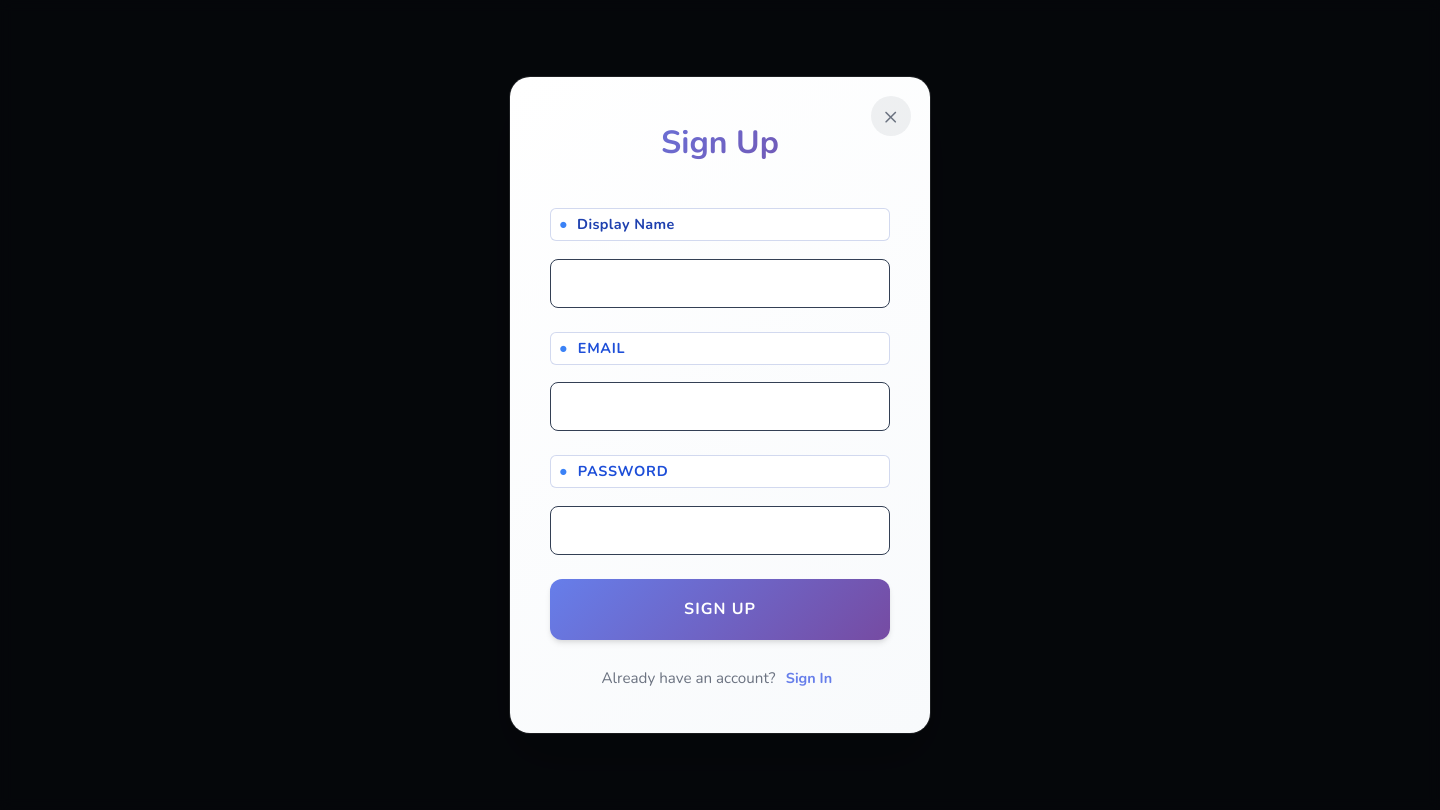
Test: AuthModal Component › Mode Switching › switches from signup to login mode
The image size is (1440, 810).
Expected: the heading "Sign Up" is shown, [550,117,890,168]
Expected: the field labelled "Display Name" is shown, [550,259,890,308]
Note: Click switch to login
Click the button "Sign In" at (809, 678), box [780,664,838,693]
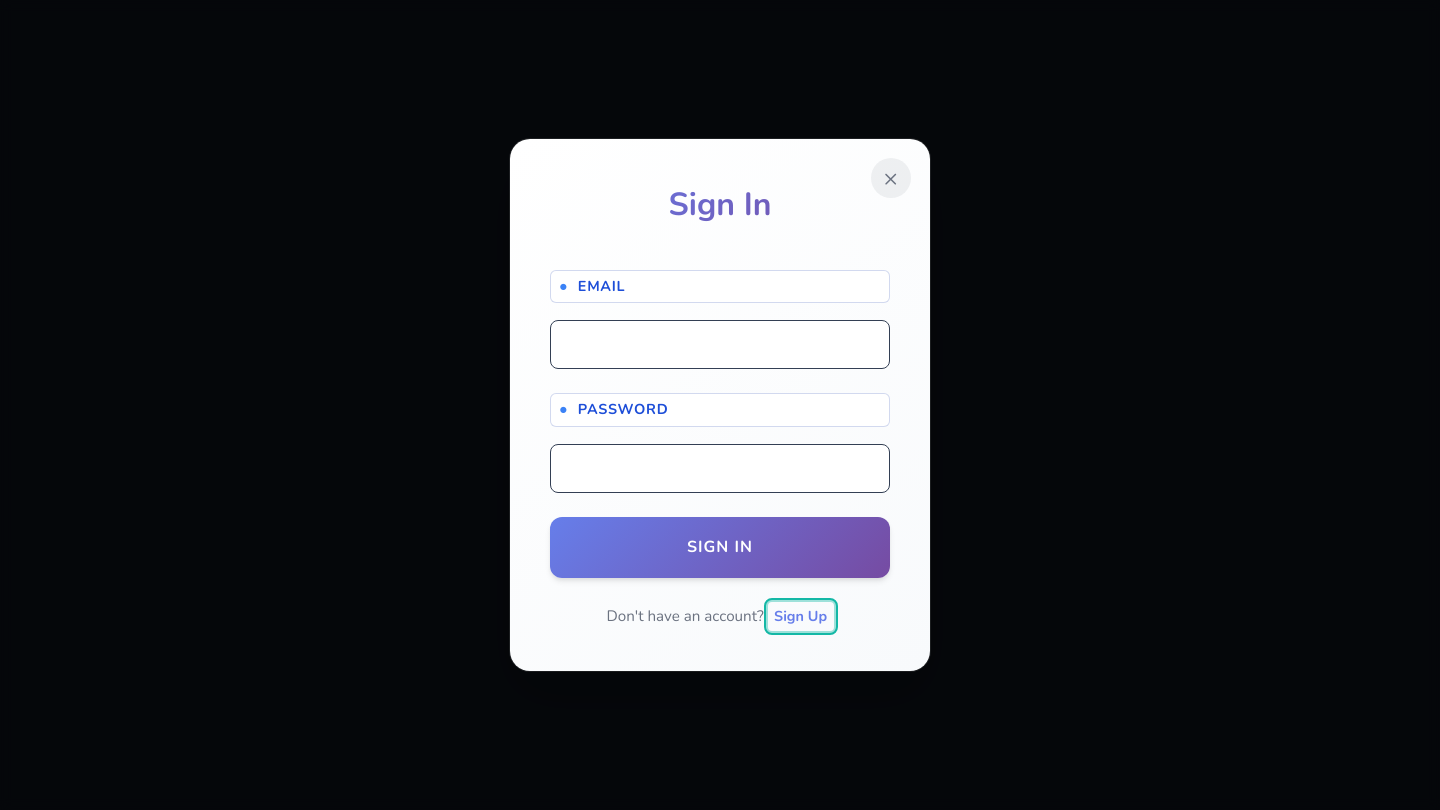
Expected: the heading "Sign In" is shown, [550,179,890,230]
Expected: the label labelled "Display Name" is gone
